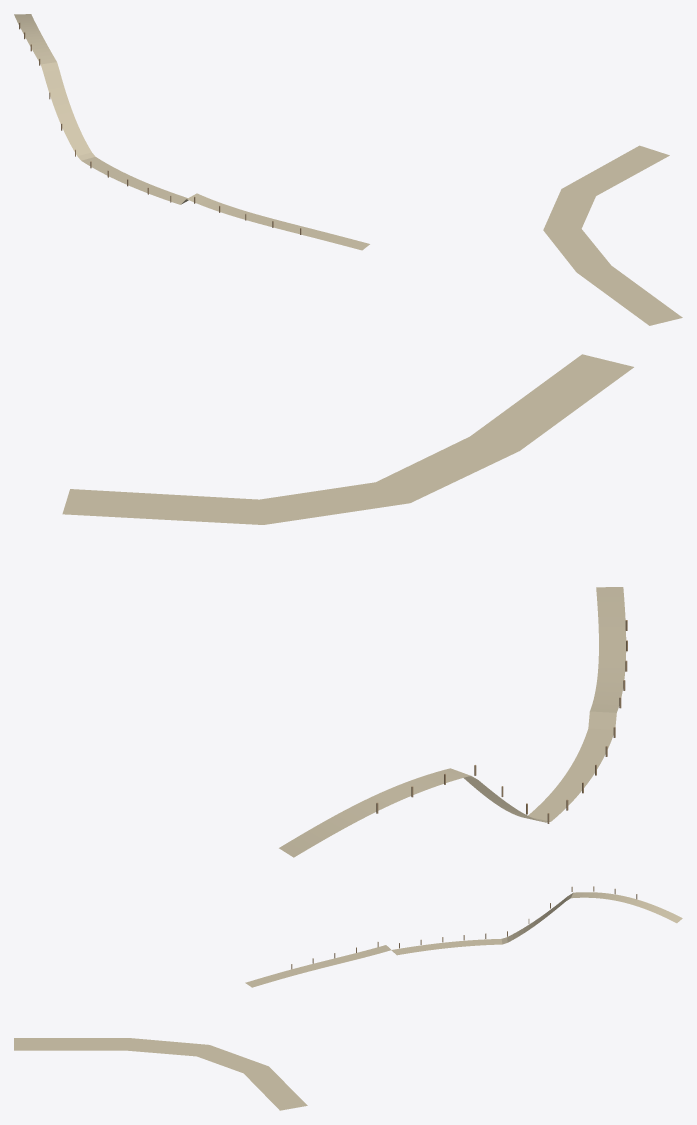
File: SM_GroundPaths.fbx
The picture shows the model from 3 angles, top to bottom: view 1: azimuth 30°, elevation 25°; view 2: azimuth 150°, elevation 25°; view 3: azimuth 270°, elevation 25°; orthographic projection. The views are drawn at different scales.
Parts seen in each view (by area): view 1: SM_GroundPaths; view 2: SM_GroundPaths; view 3: SM_GroundPaths.
Part boxes in pixels (box(x1,y1,x2,y2)): SM_GroundPaths: box(14, 14, 682, 325); SM_GroundPaths: box(62, 354, 633, 857); SM_GroundPaths: box(14, 886, 682, 1110).
Size of the model in its own units: 5391 by 8840 by 824.
